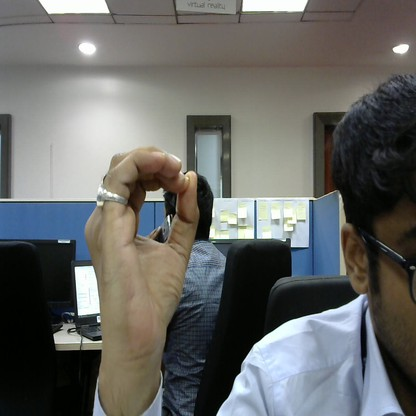o: (81, 140, 203, 347)
